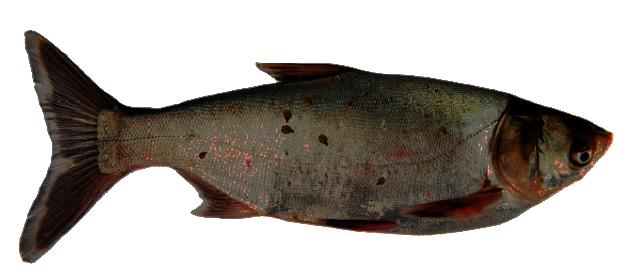Parasitic Disease: (21, 32, 612, 261), (21, 32, 611, 261)
